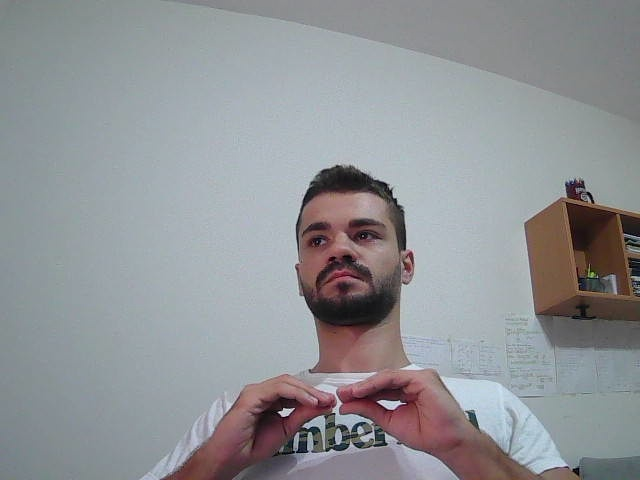b: (168, 359, 520, 480)
